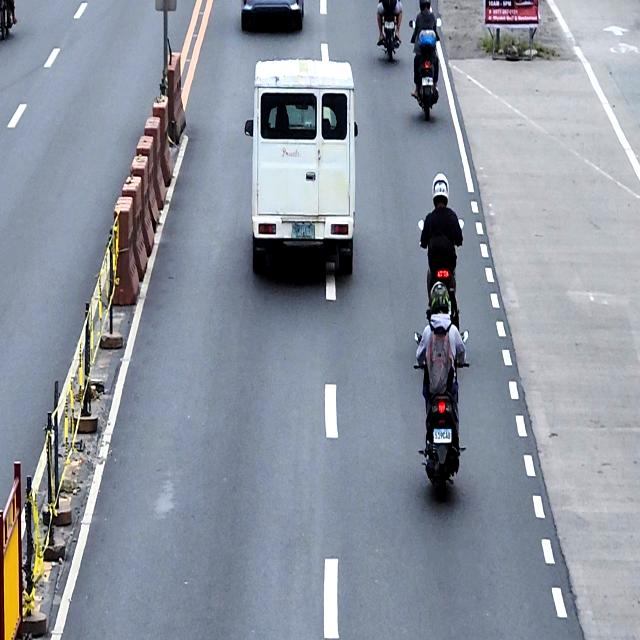Car: (244, 43, 358, 276), (240, 0, 304, 31)
License-Plate: (290, 221, 316, 242), (432, 426, 452, 444), (422, 76, 434, 87), (384, 19, 395, 29)
Motorcycle: (413, 328, 470, 502), (416, 216, 464, 333), (409, 17, 441, 120), (378, 6, 400, 62)
